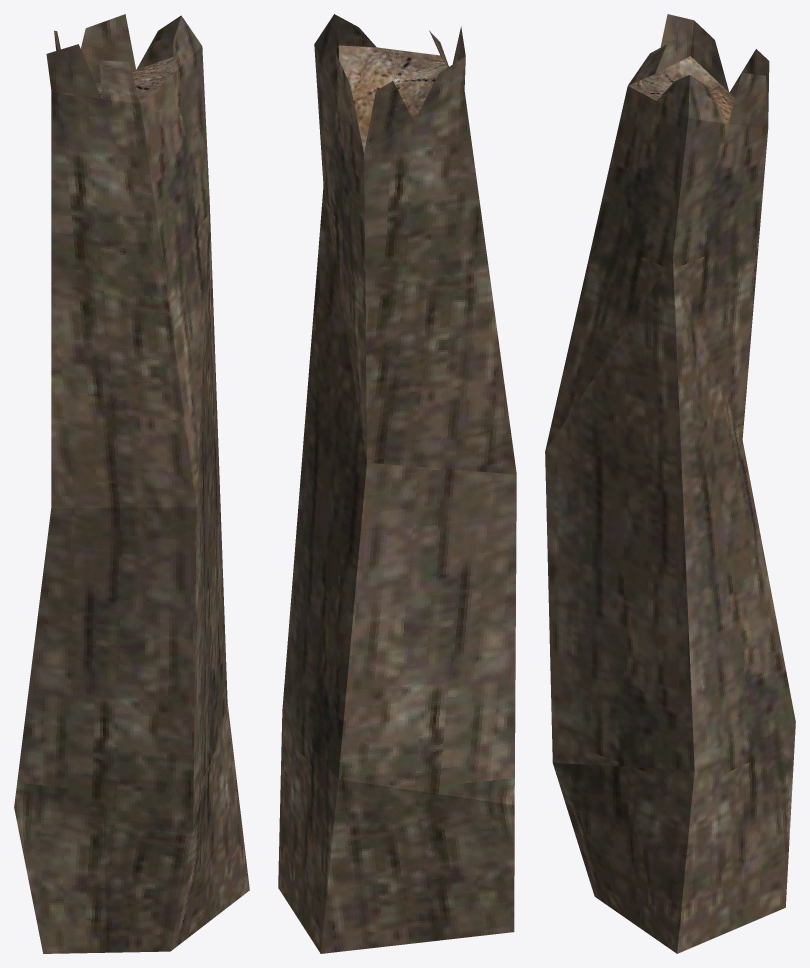
File: lf_wooden_fence_post_broken.glb
3 renders of one model, left to right at view 1: azimuth 30°, elevation 25°; view 2: azimuth 150°, elevation 25°; view 3: azimuth 270°, elevation 25°, orthographic. The views are drawn at different scales.
Parts seen in each view (by area): view 1: wooden_fence_pole_broken_large; view 2: wooden_fence_pole_broken_large; view 3: wooden_fence_pole_broken_large.
Part boxes in pixels (x1,y1,x2,y2): wooden_fence_pole_broken_large: [14, 14, 249, 953]; wooden_fence_pole_broken_large: [278, 14, 516, 953]; wooden_fence_pole_broken_large: [545, 14, 795, 953].
Size of the model in its own units: 0.2665 by 0.9675 by 0.2564.
1 material, 1 textured.
